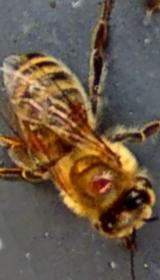varroa_mite: (53, 96, 97, 131), (83, 162, 118, 202)
